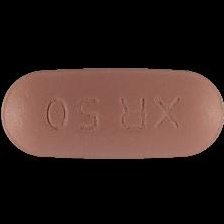61786-934: (0, 0, 224, 224)
